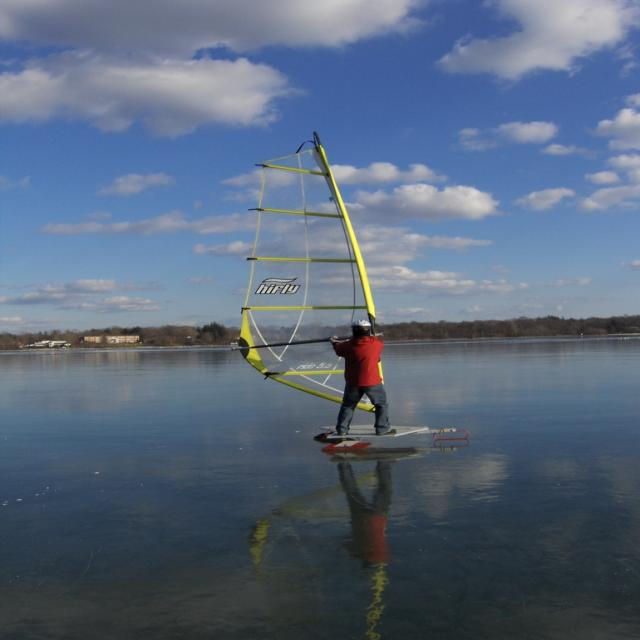Boat: (232, 118, 450, 452)
